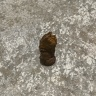Dog: (40, 32, 56, 63)
